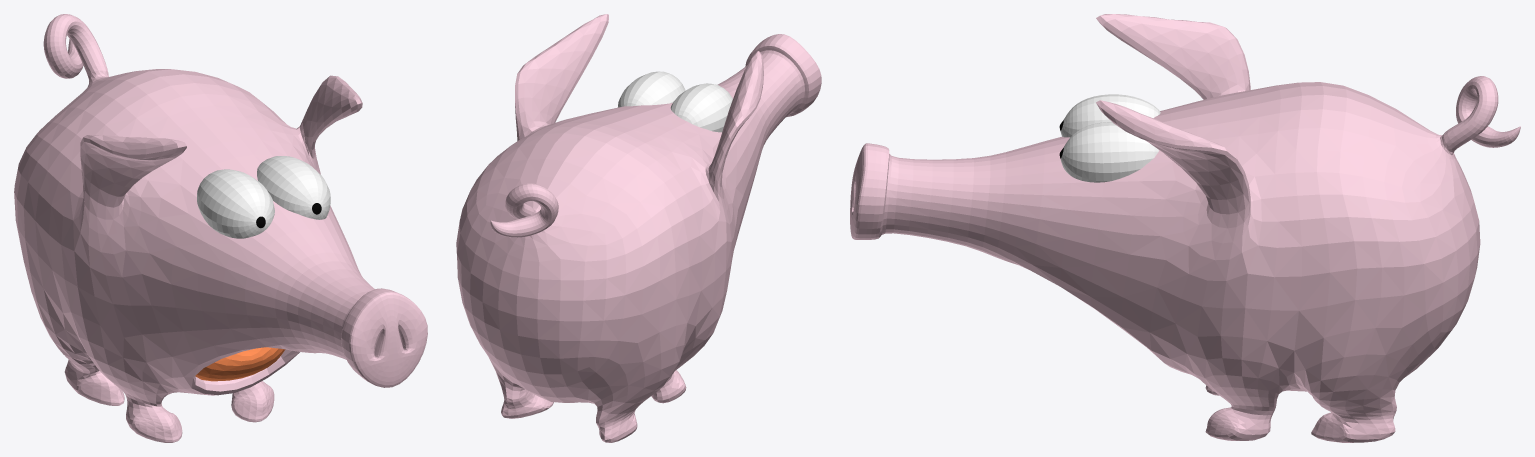
The model's file is pig.gltf.
The picture shows the model from 3 angles, left to right: view 1: azimuth 30°, elevation 25°; view 2: azimuth 150°, elevation 25°; view 3: azimuth 270°, elevation 25°; orthographic projection. The views are drawn at different scales.
Parts seen in each view (by area): view 1: Skin, Eyes, Tongue; view 2: Skin, Eyes; view 3: Skin, Eyes.
Boxes of the visible parts, bbox=[...] form: Skin: bbox=[14, 14, 427, 442]; Eyes: bbox=[197, 156, 330, 238]; Tongue: bbox=[195, 347, 285, 381]; Skin: bbox=[456, 14, 821, 442]; Eyes: bbox=[618, 71, 732, 132]; Skin: bbox=[850, 14, 1520, 442]; Eyes: bbox=[1060, 94, 1160, 182].
Bounding box in the file's own units: 0.683 × 0.9181 × 1.57.
